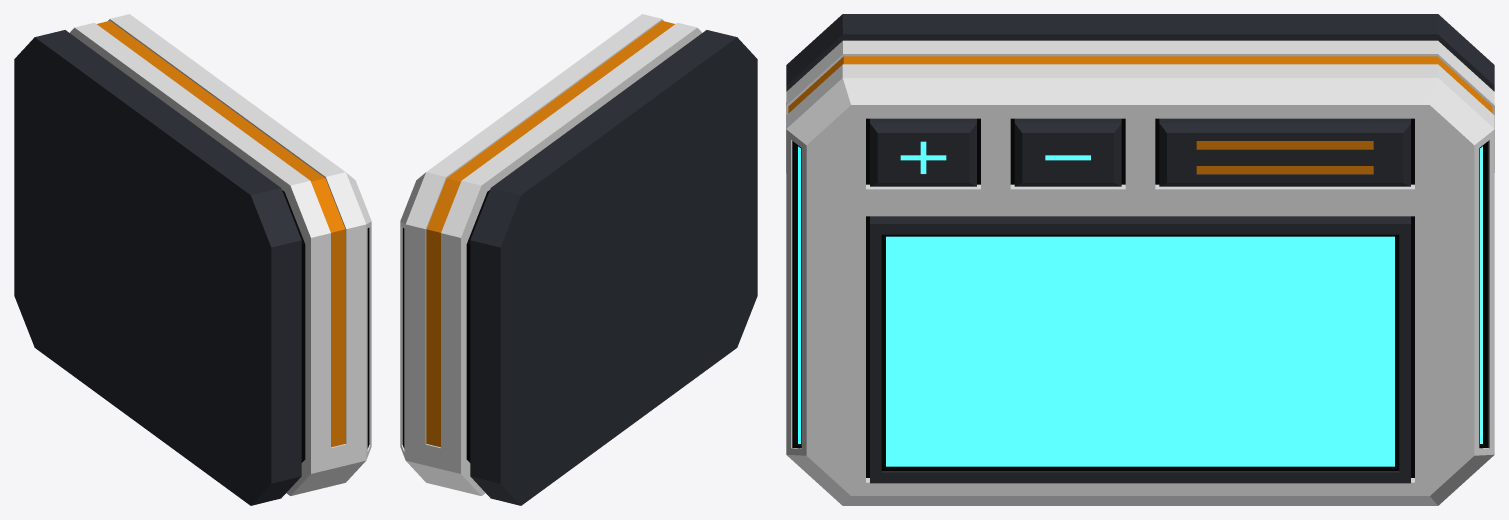
File: SM_WallControlPanel.fbx
The picture shows the model from 3 angles, left to right: view 1: azimuth 30°, elevation 25°; view 2: azimuth 150°, elevation 25°; view 3: azimuth 270°, elevation 25°; orthographic projection. The views are drawn at different scales.
Parts seen in each view (by area): view 1: SM_WallControlPanel; view 2: SM_WallControlPanel; view 3: SM_WallControlPanel.
Part boxes in pixels (x1,y1,x2,y2): SM_WallControlPanel: (14, 14, 371, 505); SM_WallControlPanel: (400, 14, 757, 505); SM_WallControlPanel: (786, 14, 1494, 505).
Bounding box in the file's own units: 6.32 × 16.46 × 24.7.
